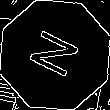N_SE: (24, 26, 86, 84)
